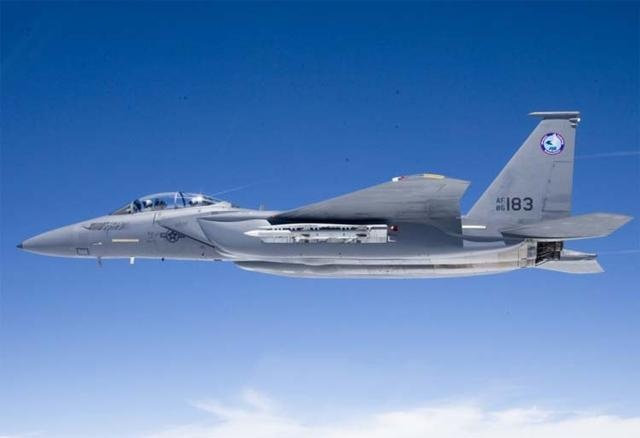airplane: (11, 105, 640, 281)
